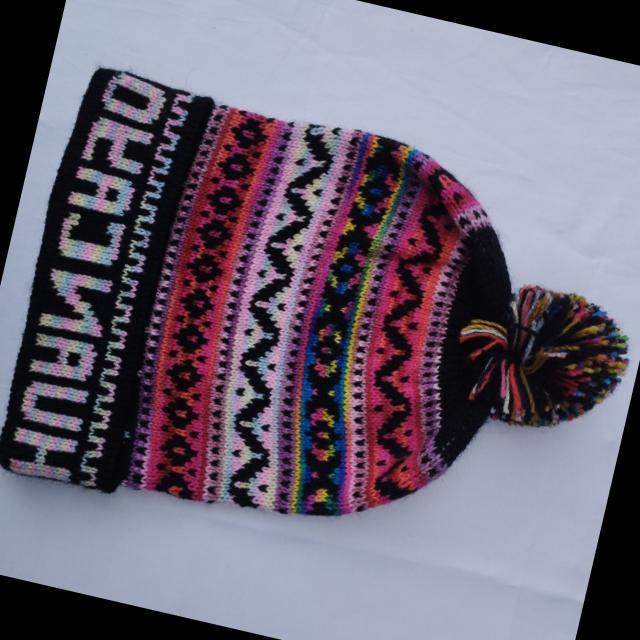Gorro: (0, 60, 640, 602)
